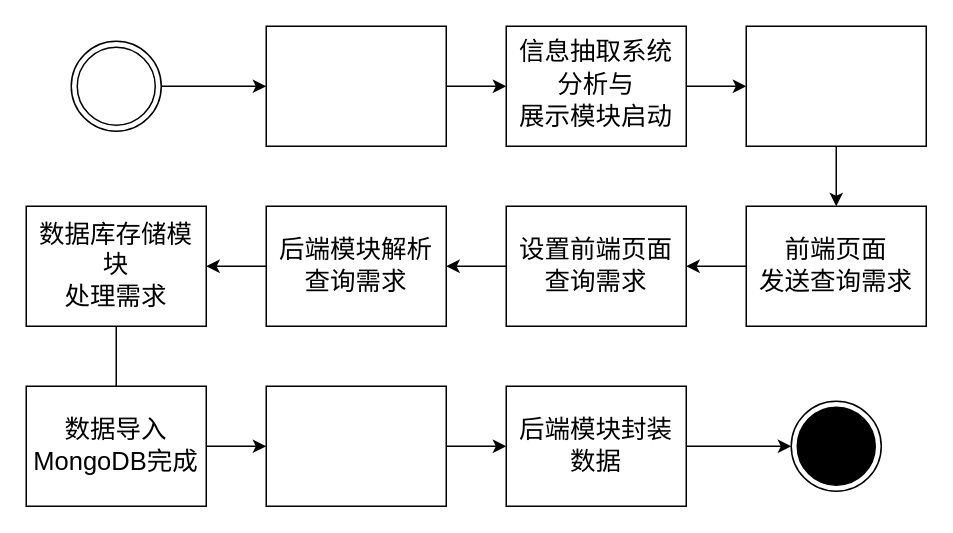
Image size: 953x533. Some labels were removed from this diagram. The shapes that lost their labels are listed below. From the top down, each one's box as (x1, y1, x2, y2) in pixels, then its label:
(265, 25, 446, 146): 加载 信息抽取系统分析与展示模块 配置
(745, 25, 926, 146): 前端页面配置 关联接口
(265, 385, 446, 506): 前端模块渲染数据可视化呈现
